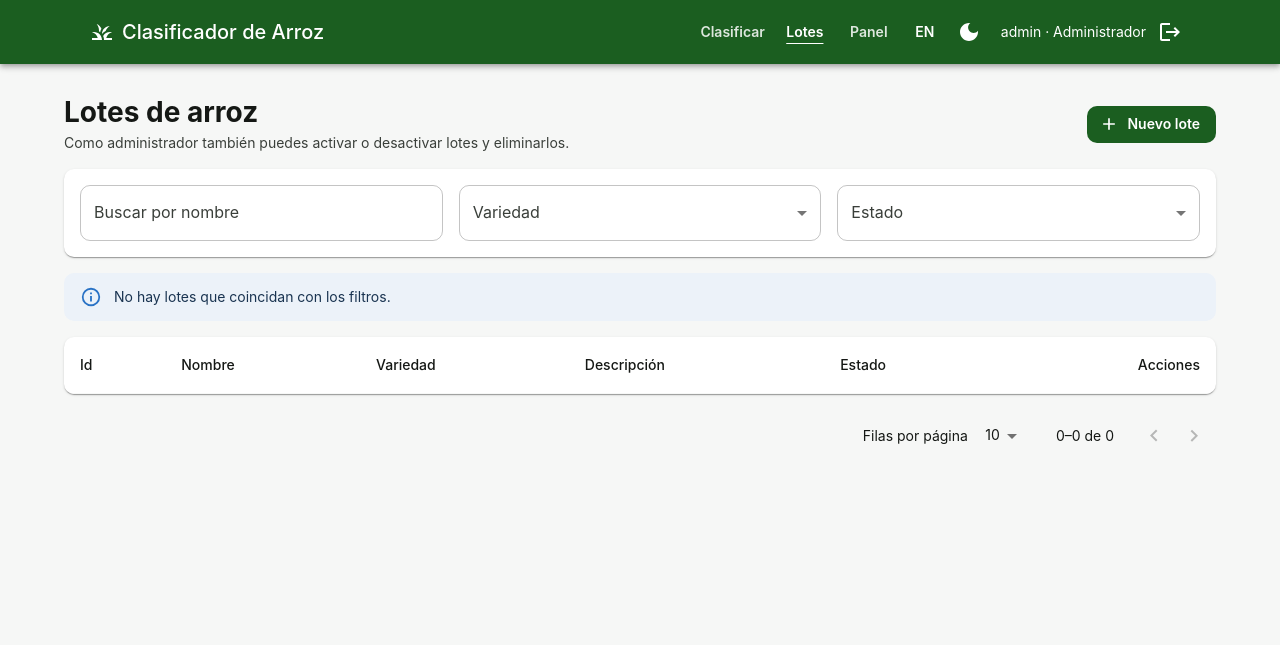
App: navegación por rol › cerrar sesión vuelve a la página pública
The width and height of the screenshot is (1280, 645).
Step 1. Click the button with test id "boton-salir" → (1170, 32), box left=1150, top=12, right=1190, bottom=52
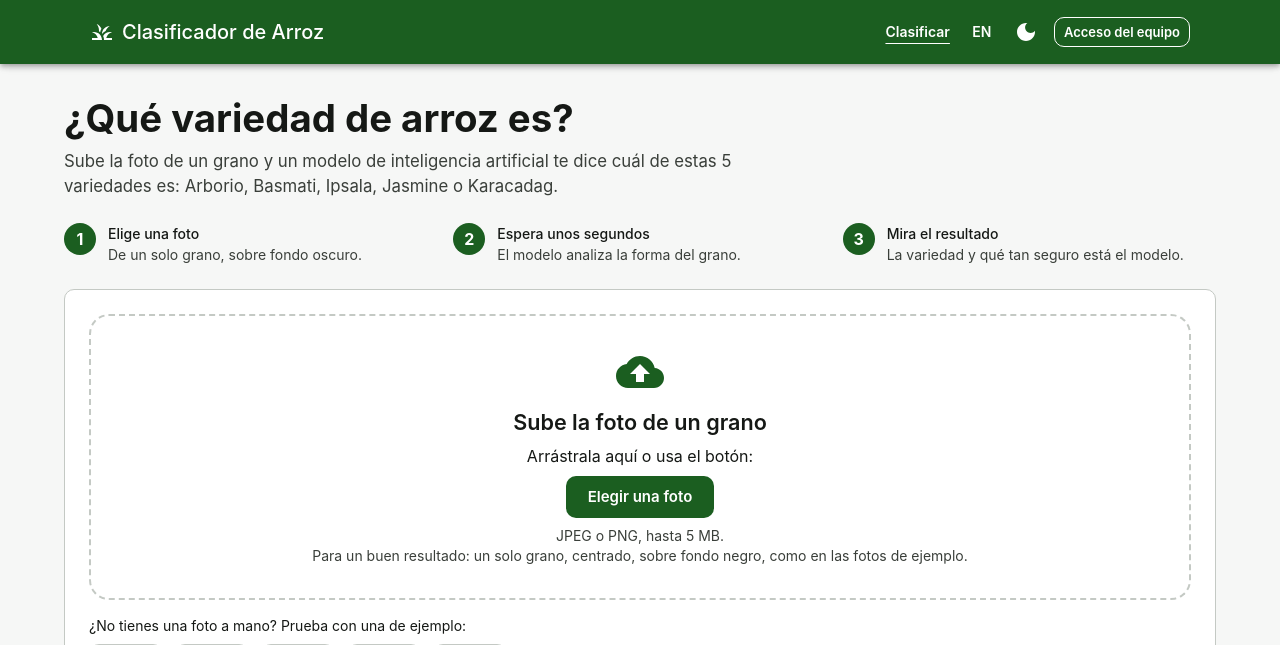
Expected: the heading "¿Qué variedad de arroz es?" is shown, left=64, top=95, right=574, bottom=141
Expected: the link with test id "nav-equipo" is shown, left=1054, top=17, right=1190, bottom=47
